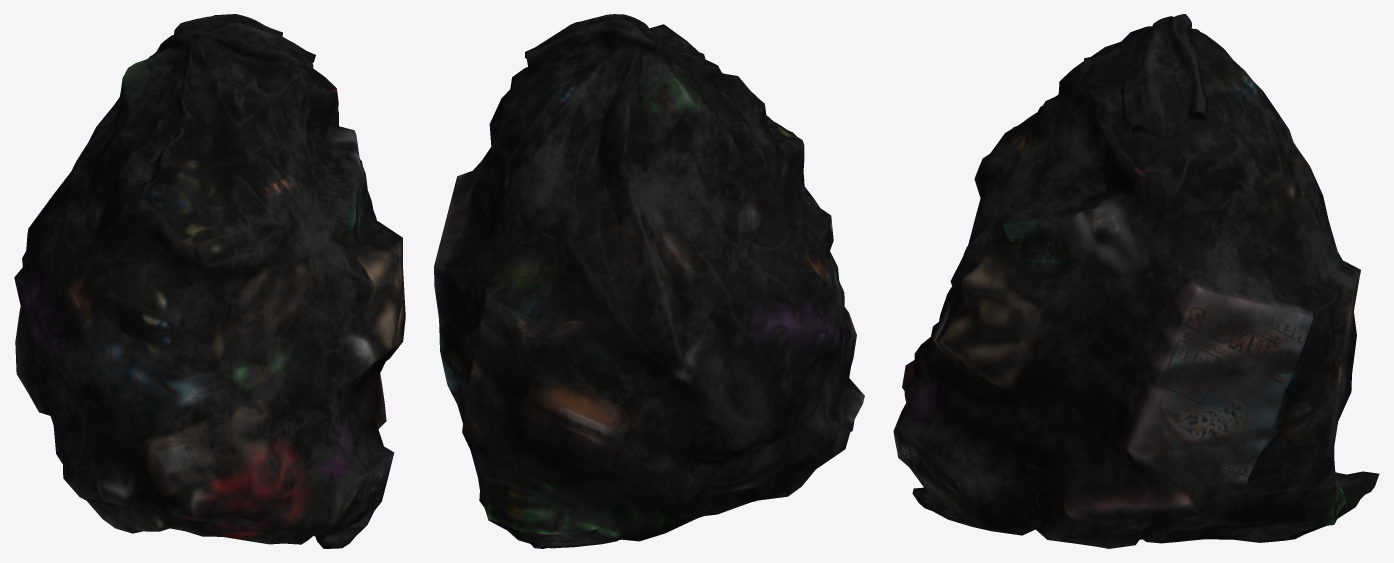
The model's file is trashbag__trashbag.obj.
The picture shows the model from 3 angles, left to right: view 1: azimuth 30°, elevation 25°; view 2: azimuth 150°, elevation 25°; view 3: azimuth 270°, elevation 25°; orthographic projection. The views are drawn at different scales.
Parts seen in each view (by area): view 1: trashbag; view 2: trashbag; view 3: trashbag.
Part boxes in pixels (bbox=[...]): trashbag: bbox=[14, 14, 405, 548]; trashbag: bbox=[434, 14, 864, 548]; trashbag: bbox=[893, 14, 1379, 548].
Size of the model in its own units: 0.4629 by 0.575 by 0.5281.
Materials: 1 (1 with a texture image).
